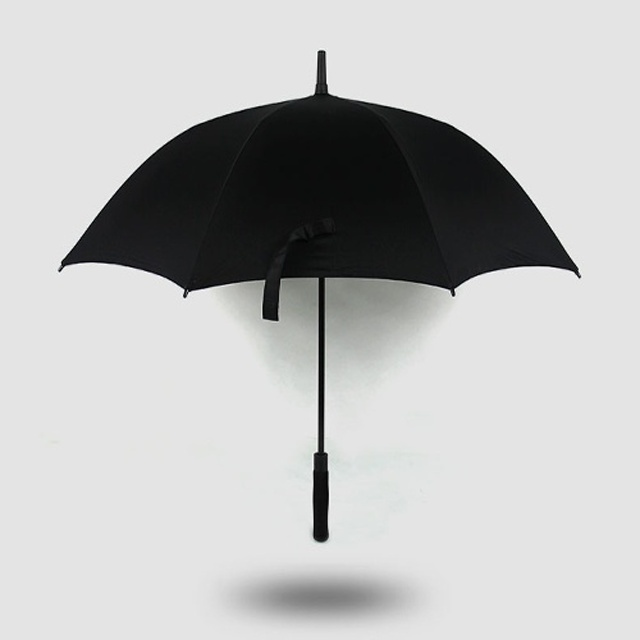umbrella: (53, 47, 584, 548)
